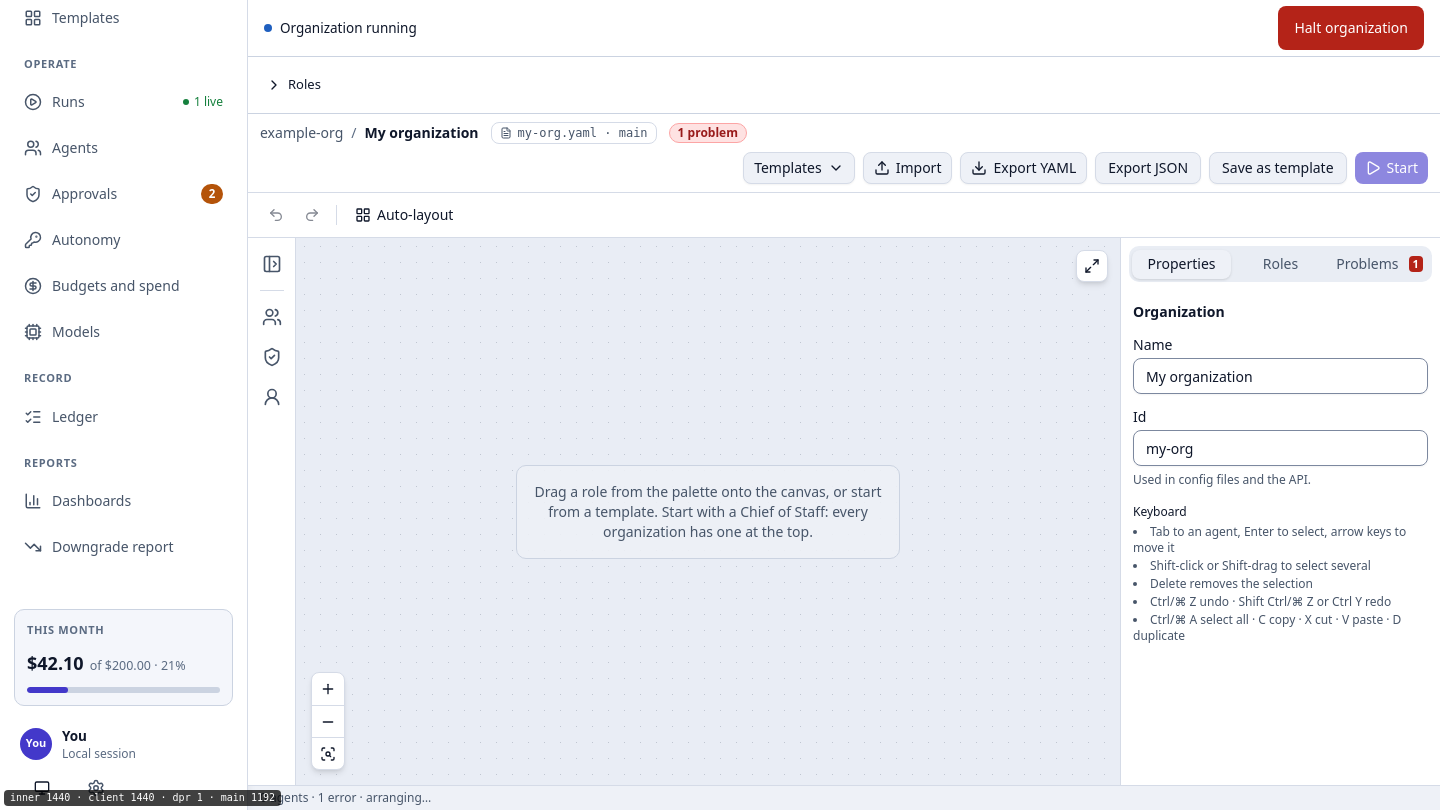
Test: app shell › switches theme from the header menu
(page scrolled)
Click the button named "Theme:": {"x": 42, "y": 788} 20,766 -> 64,809
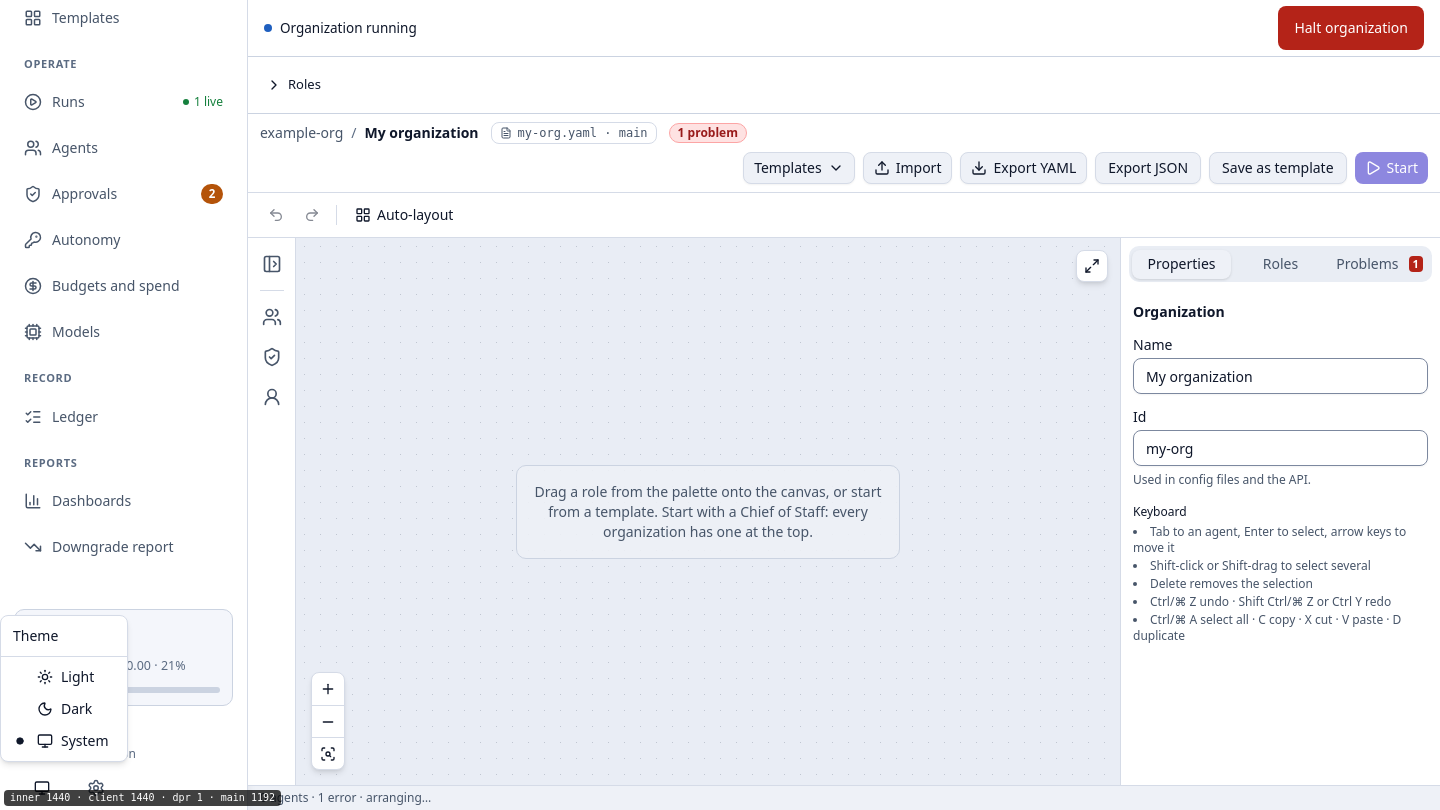
Click the menu item "Dark": {"x": 65, "y": 708} 37,699 -> 92,718
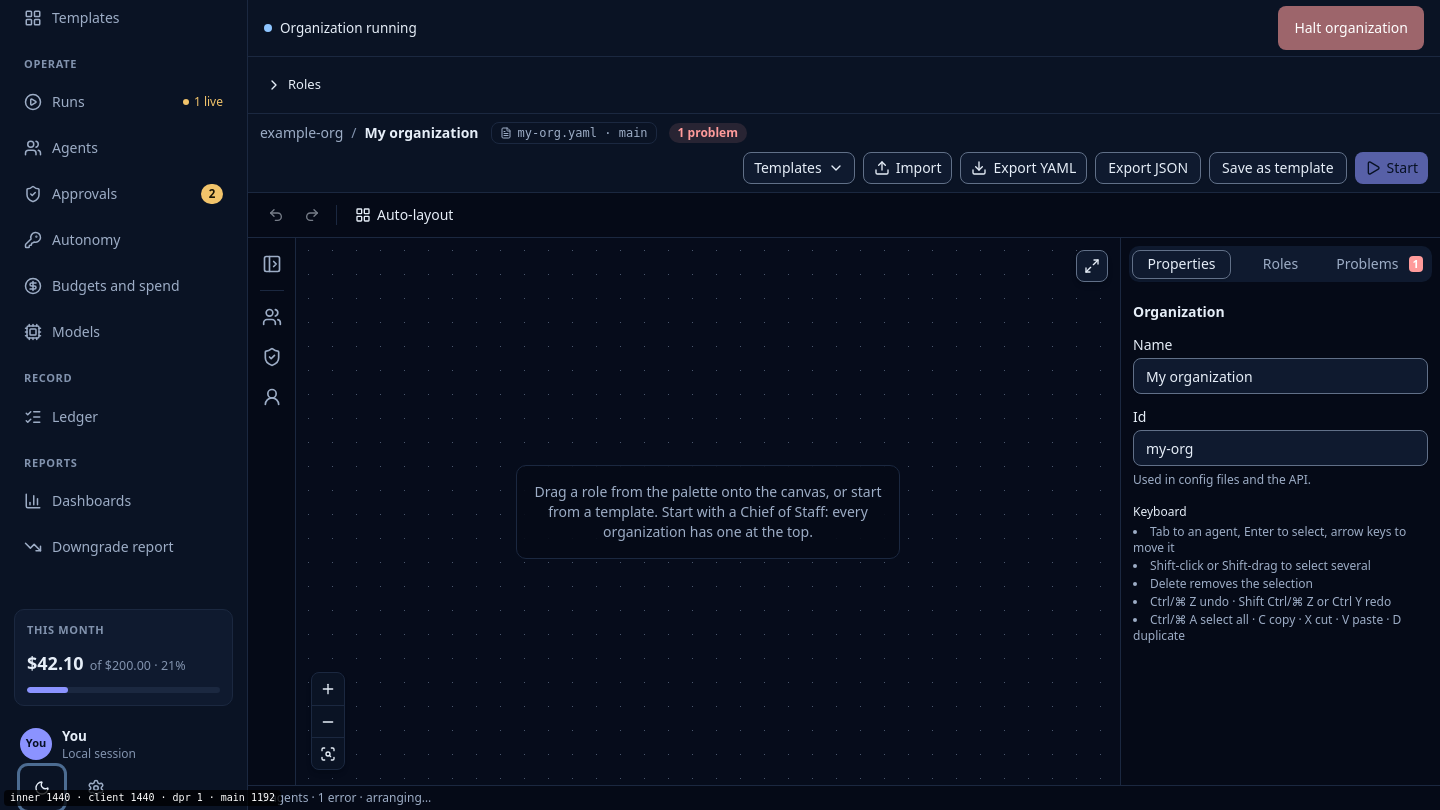
Result: the button named "Theme: Dark" is shown at 20,766 -> 64,809
